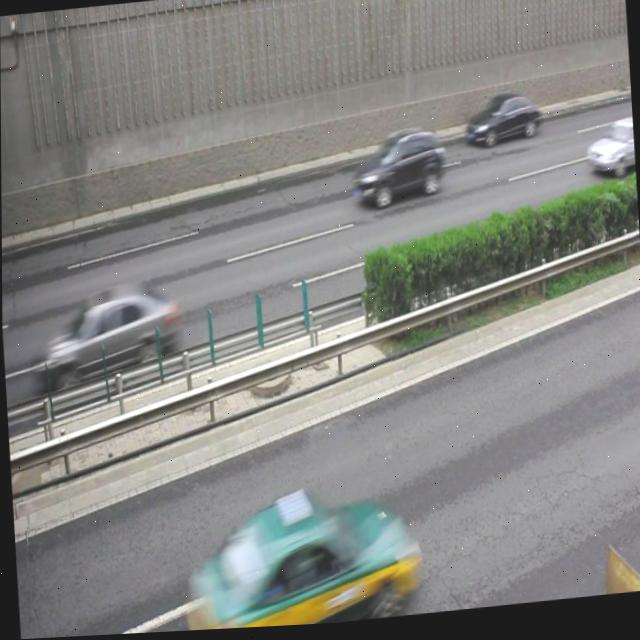car: (174, 481, 415, 633), (45, 283, 177, 382), (350, 130, 445, 212), (462, 94, 539, 155), (583, 123, 636, 182)
